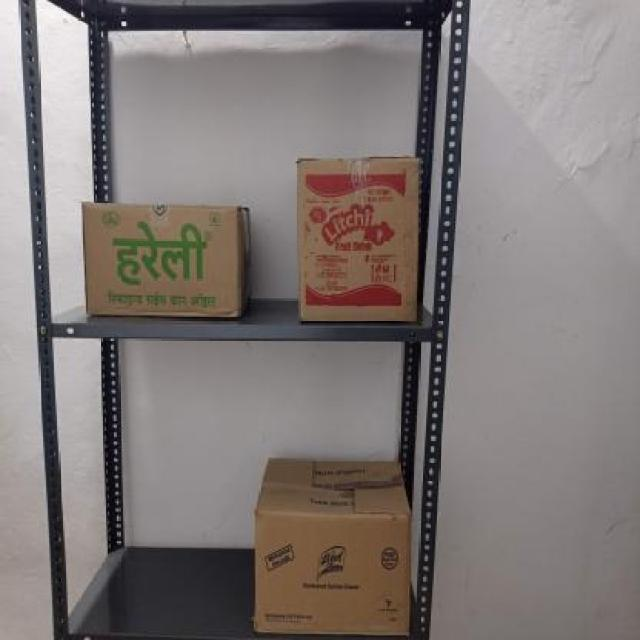box: (255, 509, 413, 638), (297, 157, 420, 320), (84, 209, 238, 320)
